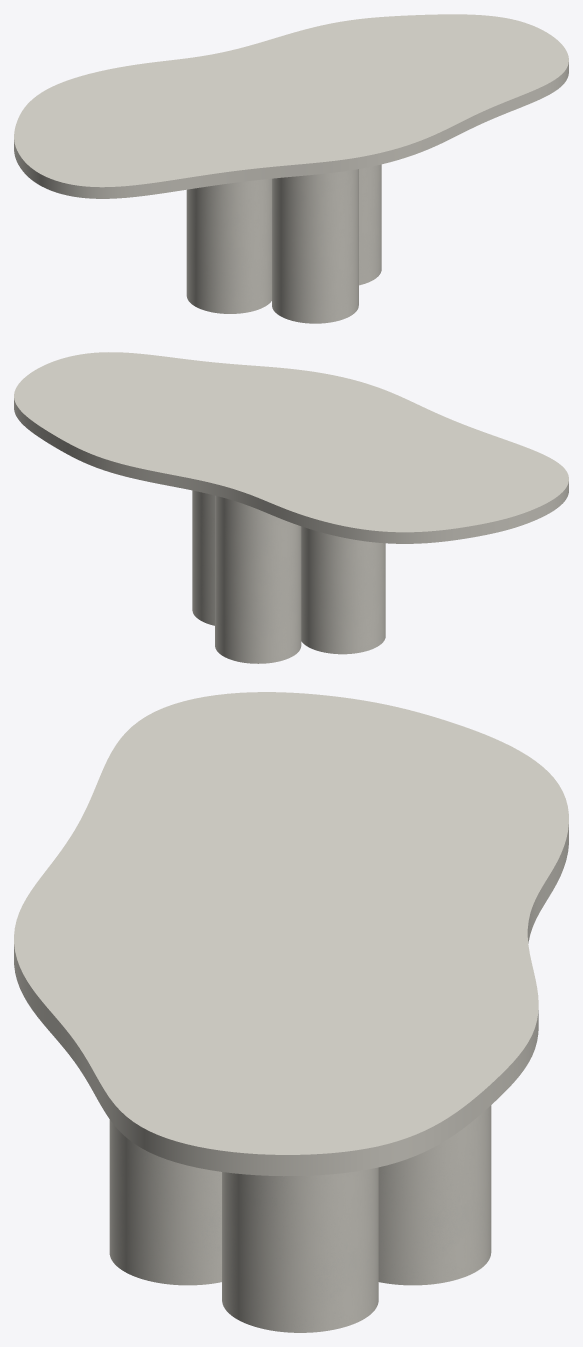
The model's file is pale_toplast_standard_secondtable.glb.
The picture shows the model from 3 angles, top to bottom: view 1: azimuth 30°, elevation 25°; view 2: azimuth 150°, elevation 25°; view 3: azimuth 270°, elevation 25°; orthographic projection. The views are drawn at different scales.
Visible parts, largest first — view 1: standard_toplast, secondtable; view 2: standard_toplast, secondtable; view 3: standard_toplast, secondtable.
Part boxes in pixels (x1,y1,x2,y2): standard_toplast: (14, 14, 568, 198); secondtable: (186, 164, 381, 323); standard_toplast: (14, 352, 568, 543); secondtable: (192, 490, 385, 663); standard_toplast: (14, 692, 568, 1176); secondtable: (109, 1105, 491, 1332).
Bounding box in the file's own units: 7.5 × 2.5 × 3.8.
1 material, 1 textured.
